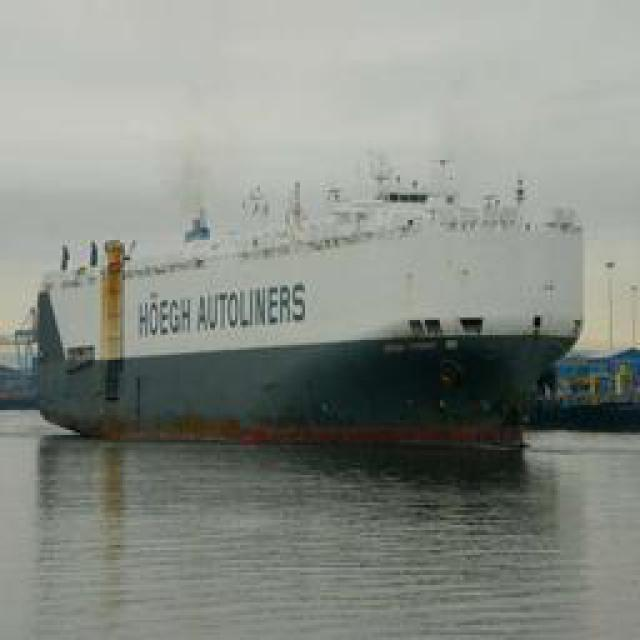Ship: (25, 176, 580, 439)
